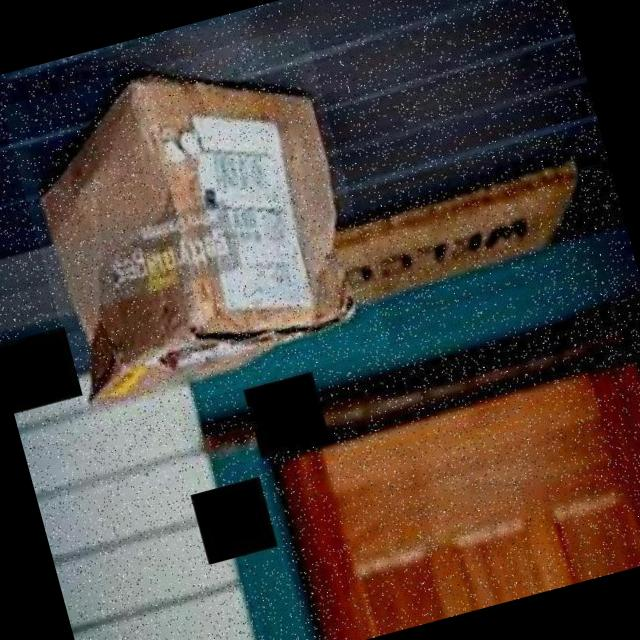box: (1, 24, 390, 428)
